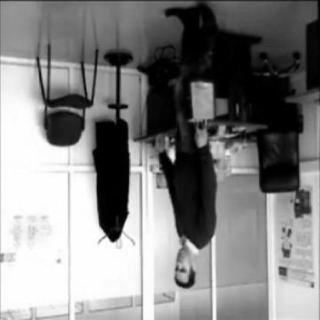other: (188, 79, 216, 125)
